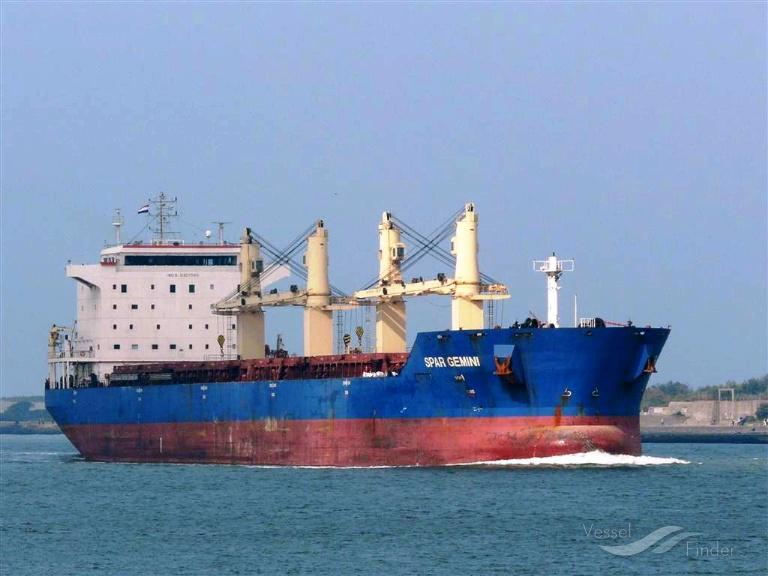OCR: (410, 349, 489, 374)
